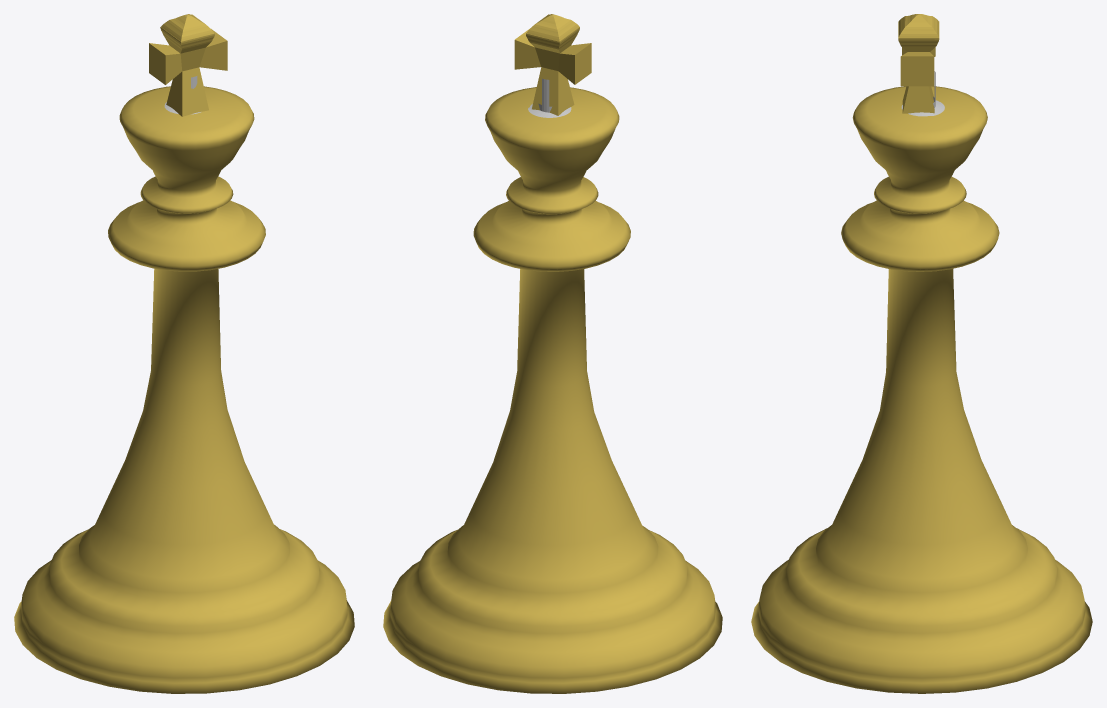
File: KING.obj
The picture shows the model from 3 angles, left to right: view 1: azimuth 30°, elevation 25°; view 2: azimuth 150°, elevation 25°; view 3: azimuth 270°, elevation 25°; orthographic projection.
Visible parts, largest first — view 1: Cylinder, Cube_Cube.001; view 2: Cylinder, Cube_Cube.001, Cylinder.001; view 3: Cylinder, Cube_Cube.001.
Boxes of the visible parts, <box> form: Cylinder: <box>14,86,354,693</box>; Cube_Cube.001: <box>149,14,227,116</box>; Cylinder: <box>383,87,722,693</box>; Cube_Cube.001: <box>514,14,591,115</box>; Cylinder.001: <box>528,78,571,117</box>; Cylinder: <box>751,86,1092,693</box>; Cube_Cube.001: <box>898,14,939,113</box>.
Bounding box in the file's own units: 0.9678 × 1.9 × 0.9678.
